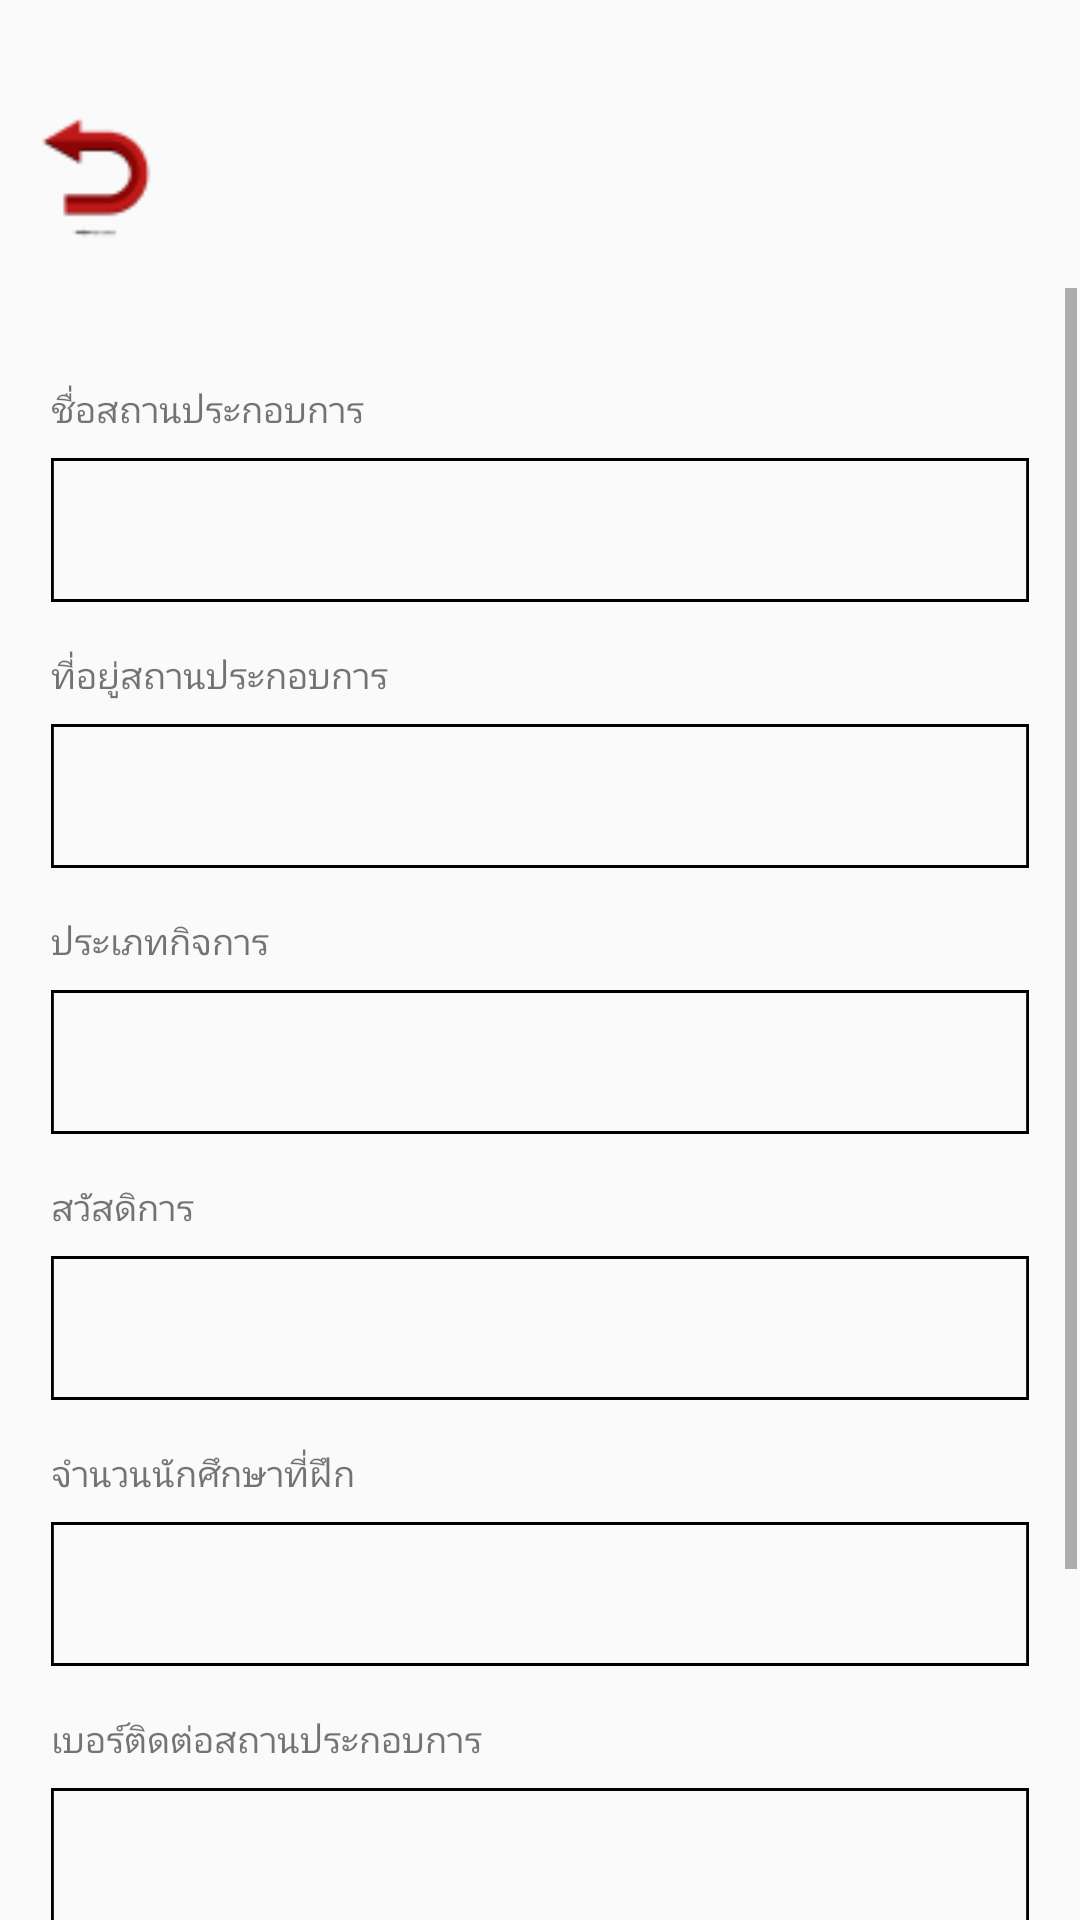

Where to tap for icons on this 1080×1920 app screen, as (x=x, y=y):
back: (x=96, y=177)
